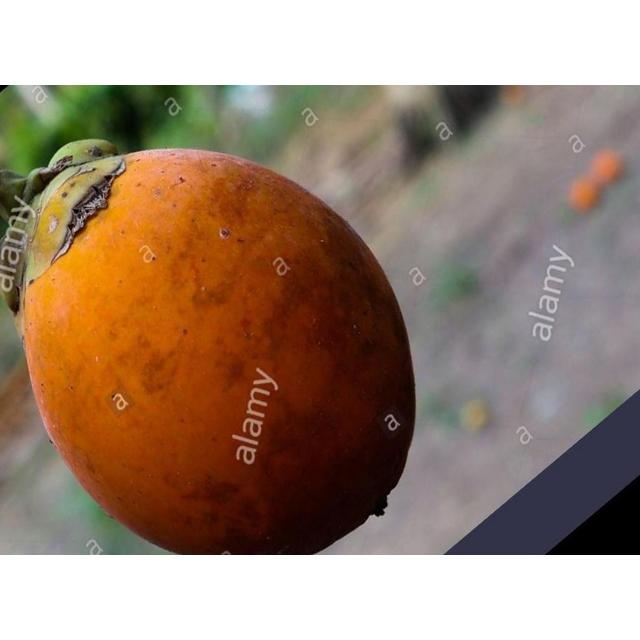good: (6, 142, 417, 555)
